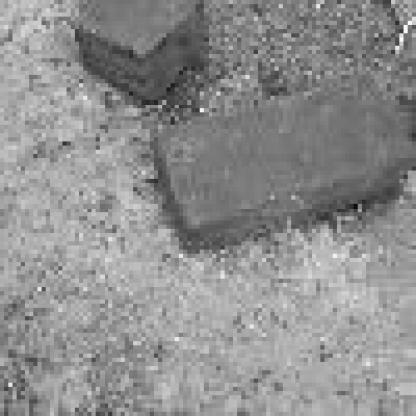brick: (156, 69, 411, 256), (77, 2, 206, 102)
